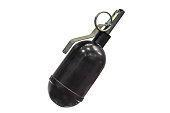Grenade: (46, 7, 124, 107)
